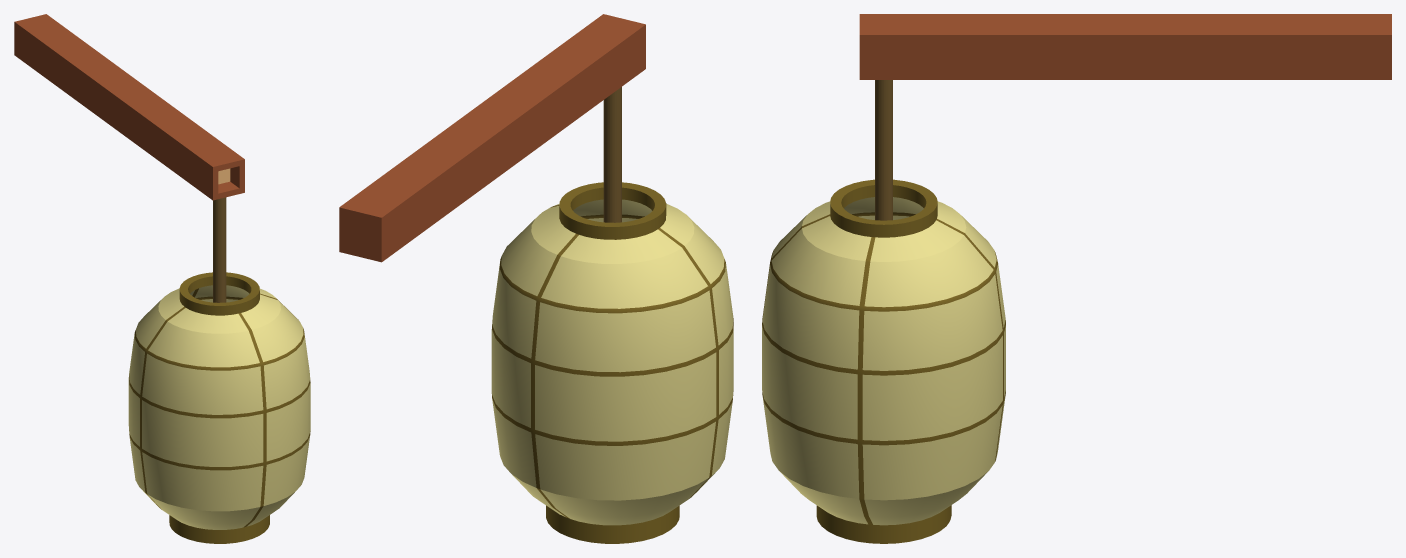
File: lamb_w_wood.fbx
The picture shows the model from 3 angles, left to right: view 1: azimuth 30°, elevation 25°; view 2: azimuth 150°, elevation 25°; view 3: azimuth 270°, elevation 25°; orthographic projection. The views are drawn at different scales.
Visible parts, largest first — view 1: Cylinder.005; view 2: Cylinder.005; view 3: Cylinder.005.
Part boxes in pixels (x1,y1,x2,y2): Cylinder.005: (14, 14, 310, 543); Cylinder.005: (339, 14, 733, 543); Cylinder.005: (762, 14, 1391, 543).
Bounding box in the file's own units: 29.06 × 64.54 × 75.01.
